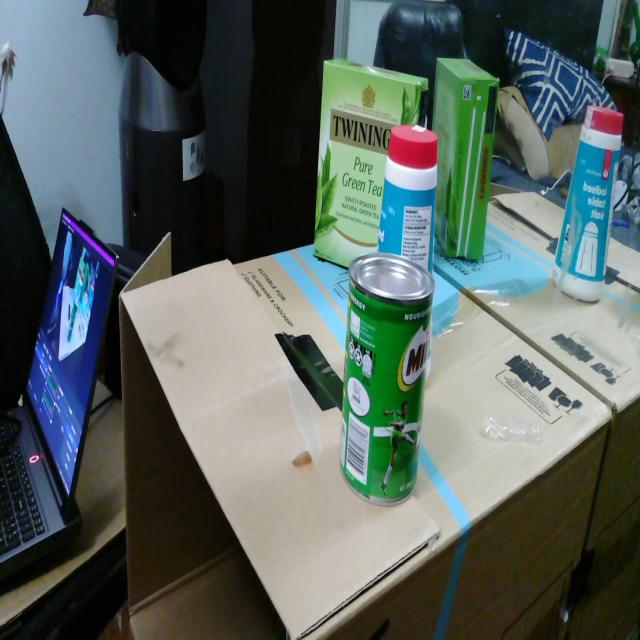nestle_milo_tin: (340, 253, 436, 506)
twinings_greentea_box: (314, 59, 428, 268)
woolworths_salt_bottle: (376, 125, 438, 277), (426, 321, 431, 379)
